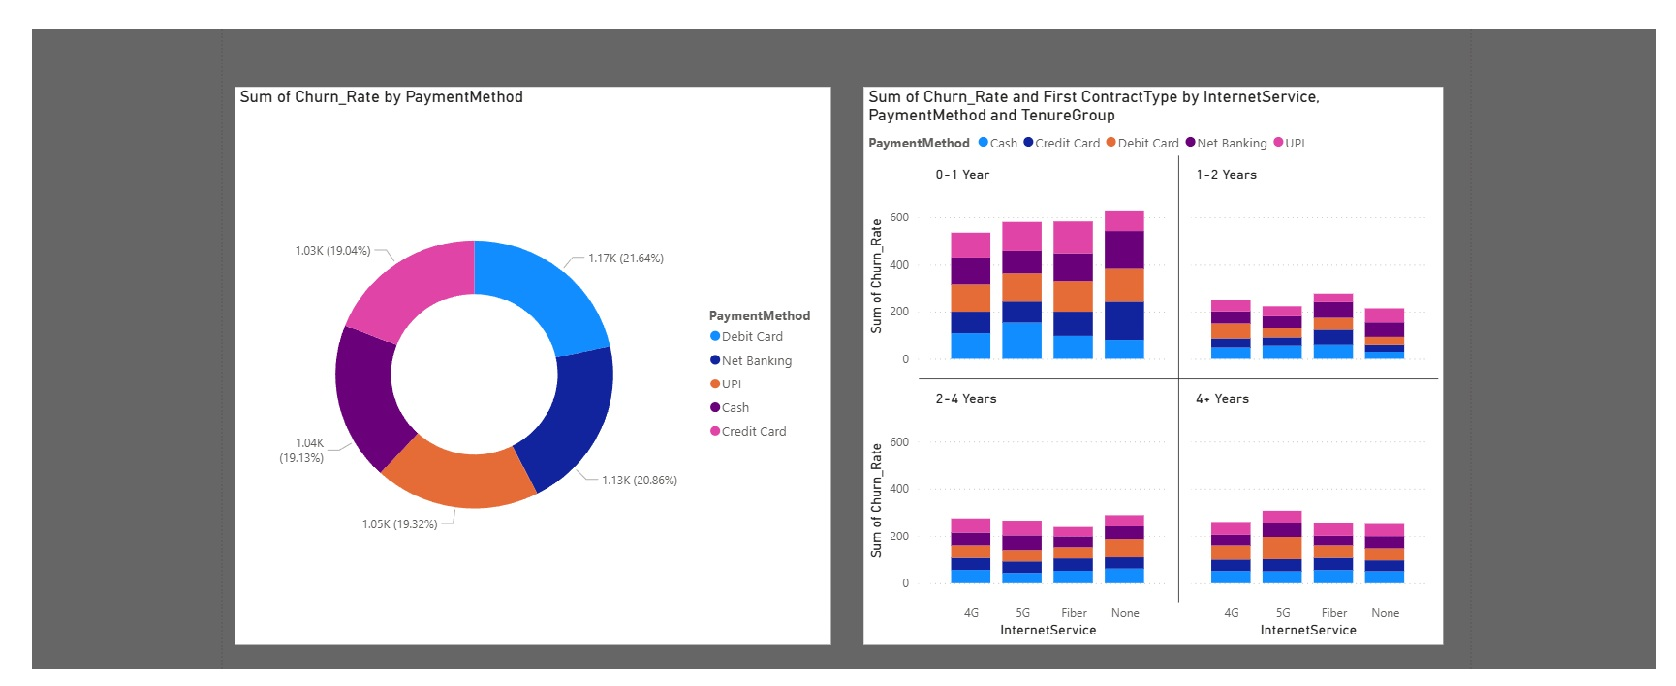

This screenshot's page, from the dashboard's own definition file:
{"tool":"powerbi","page":{"name":"Page 2","canvas":[1280,720],"ordinal":1},"visuals":[{"type":"columnChart","fields":{"Category":["churn_dashboard_predictionanalysis.InternetService"],"Series":["churn_dashboard_predictionanalysis.PaymentMethod"],"Rows":["churn_dashboard_predictionanalysis.TenureGroup"],"Y":["Sum(churn_dashboard_predictionanalysis.Churn_Rate)"]},"box":[658.7,81,595.5,594.2],"z":0},{"type":"donutChart","fields":{"Category":["churn_dashboard_predictionanalysis.PaymentMethod"],"Y":["Sum(churn_dashboard_predictionanalysis.Churn_Rate)"]},"box":[12.3,81,612,594.2],"z":1000}]}

Visuals, with their boxes on the page's 1280x720 design canvas (x1, y1, x2, y2). These are canvas units, not pixel positions in the 1676x686 screenshot, which may show the page scaled, cropped or inside an application window:
columnChart - churn_dashboard_predictionanalysis.InternetService x churn_dashboard_predictionanalysis.PaymentMethod: detection(659, 81, 1254, 675)
donutChart - churn_dashboard_predictionanalysis.PaymentMethod x Sum(churn_dashboard_predictionanalysis.Churn_Rate): detection(12, 81, 624, 675)
